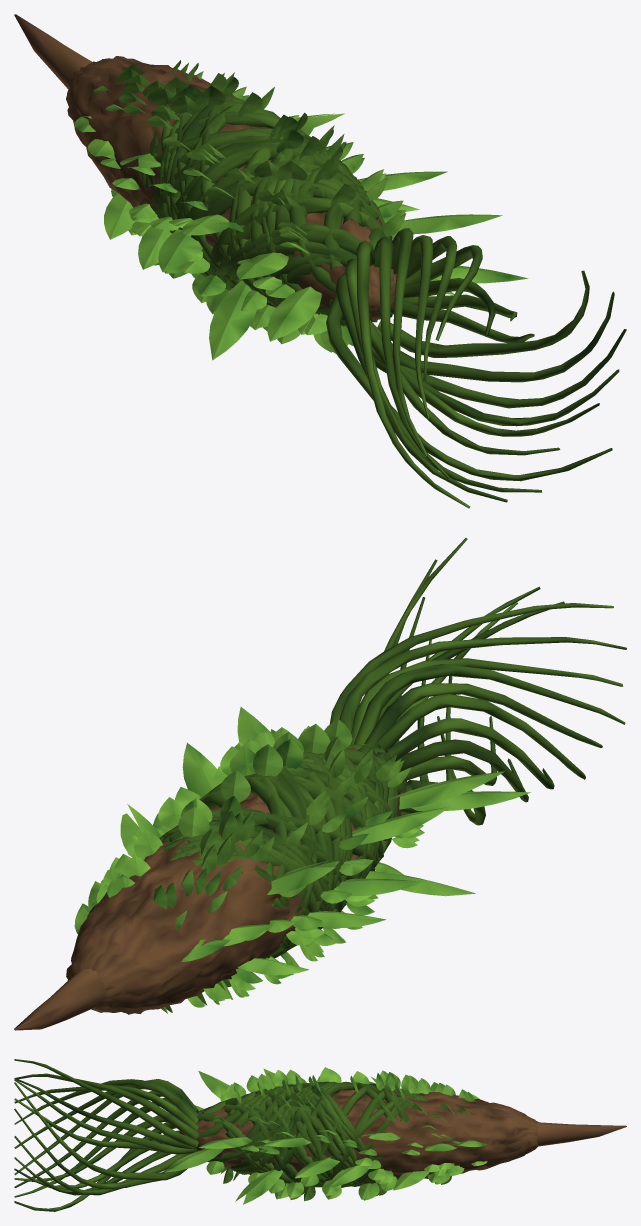
The model's file is verdane_cruiser.glb.
3 renders of one model, top to bottom at view 1: azimuth 30°, elevation 25°; view 2: azimuth 150°, elevation 25°; view 3: azimuth 270°, elevation 25°, orthographic. The views are drawn at different scales.
Visible parts, largest first — view 1: verdane_cruiser.001; view 2: verdane_cruiser.001; view 3: verdane_cruiser.001.
Part boxes in pixels (x1,y1,x2,y2): verdane_cruiser.001: (14, 14, 626, 508); verdane_cruiser.001: (14, 538, 626, 1030); verdane_cruiser.001: (14, 1059, 626, 1211).
Size of the model in its own units: 2.99 by 2.49 by 10.
